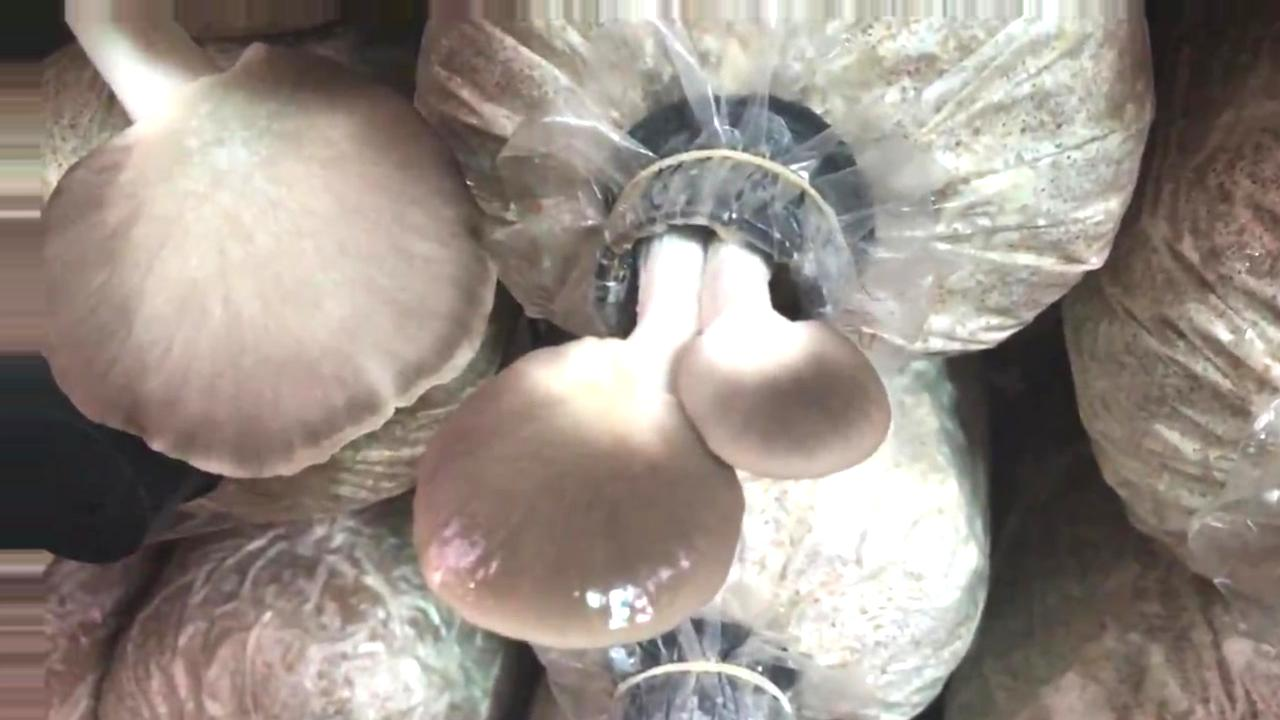nam: (410, 150, 893, 649), (1, 2, 500, 482)
